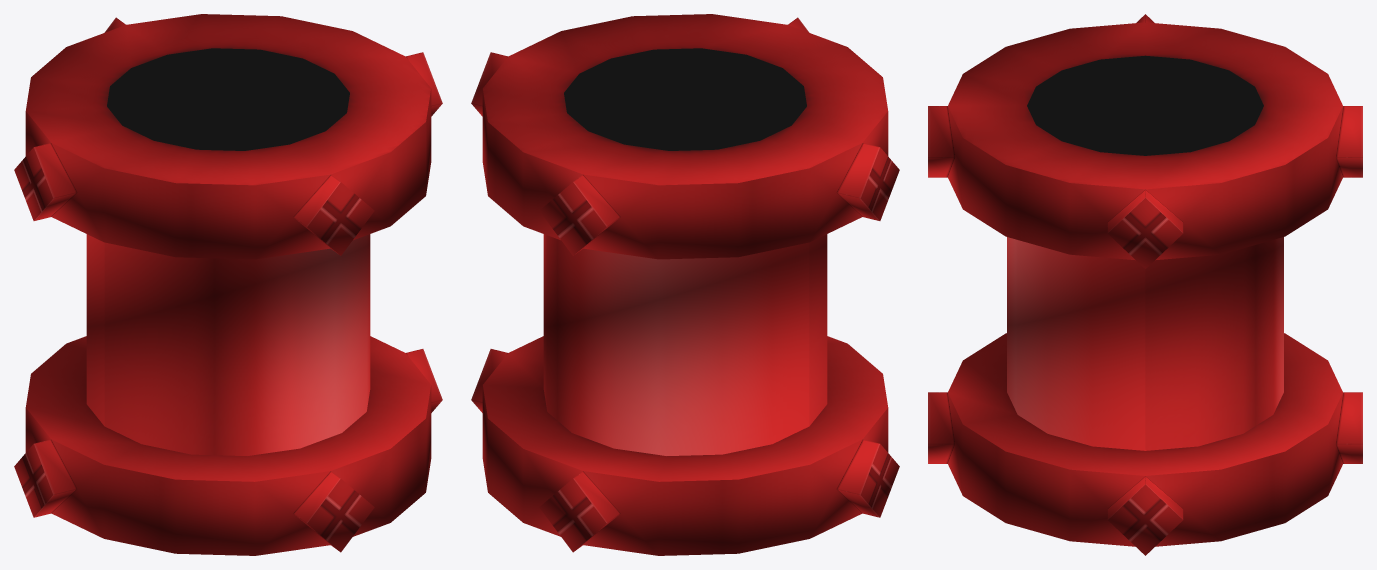
The model's file is tiles_pipe_02.glb.
The picture shows the model from 3 angles, left to right: view 1: azimuth 30°, elevation 25°; view 2: azimuth 150°, elevation 25°; view 3: azimuth 270°, elevation 25°; orthographic projection. The views are drawn at different scales.
Parts seen in each view (by area): view 1: Pipe02; view 2: Pipe02; view 3: Pipe02.
Boxes of the visible parts, x1,y1,x2,y2 form: Pipe02: (14,14,442,555); Pipe02: (471,14,899,555); Pipe02: (928,14,1362,555).
Size of the model in its own units: 2.2 by 2 by 2.2.
1 material, 1 textured.
